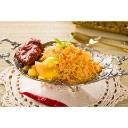briyani: (16, 38, 103, 82)
